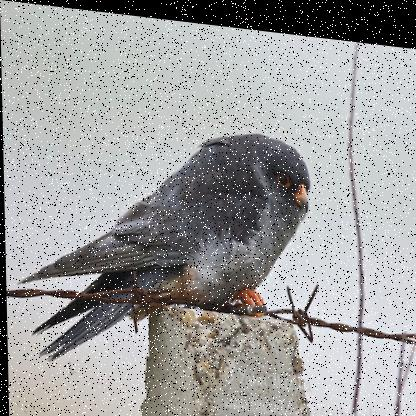Burung: (13, 106, 315, 386)
